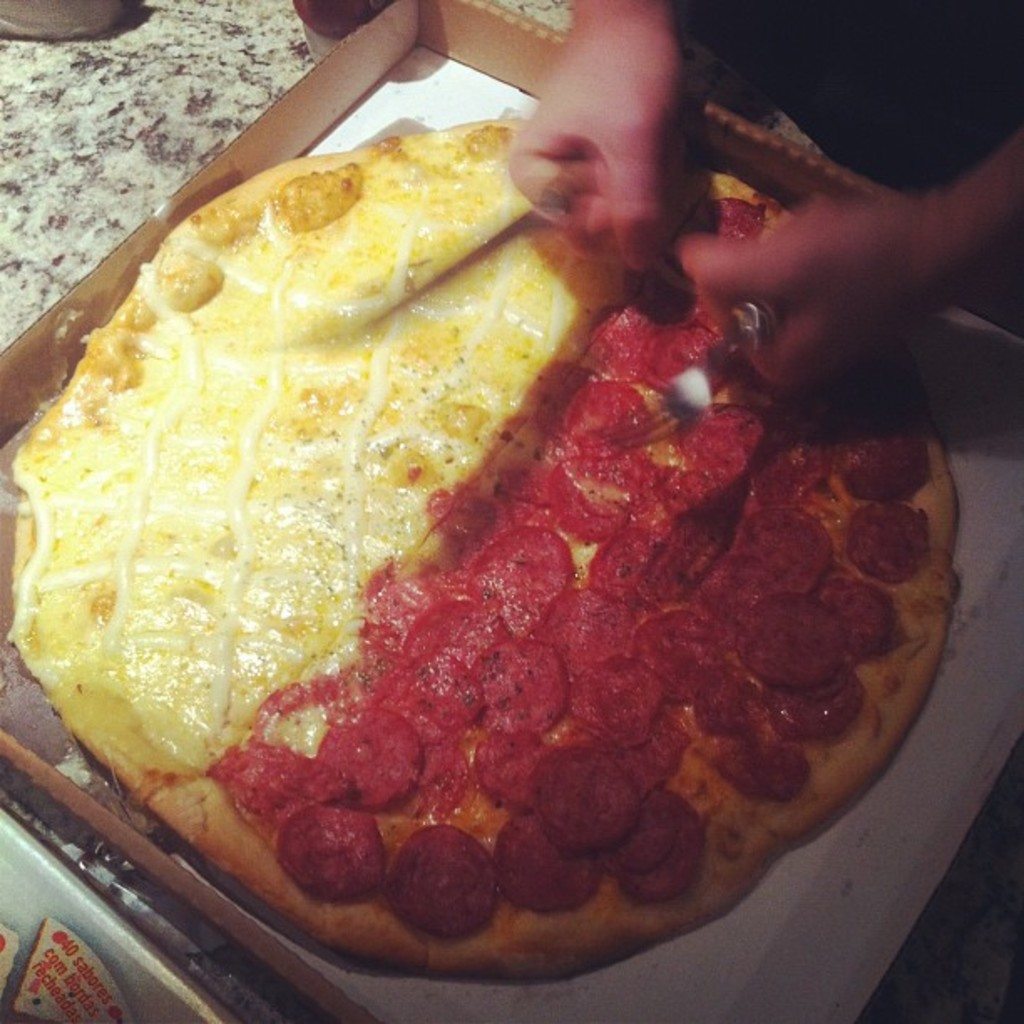Pizza: (3, 97, 1003, 1003)
